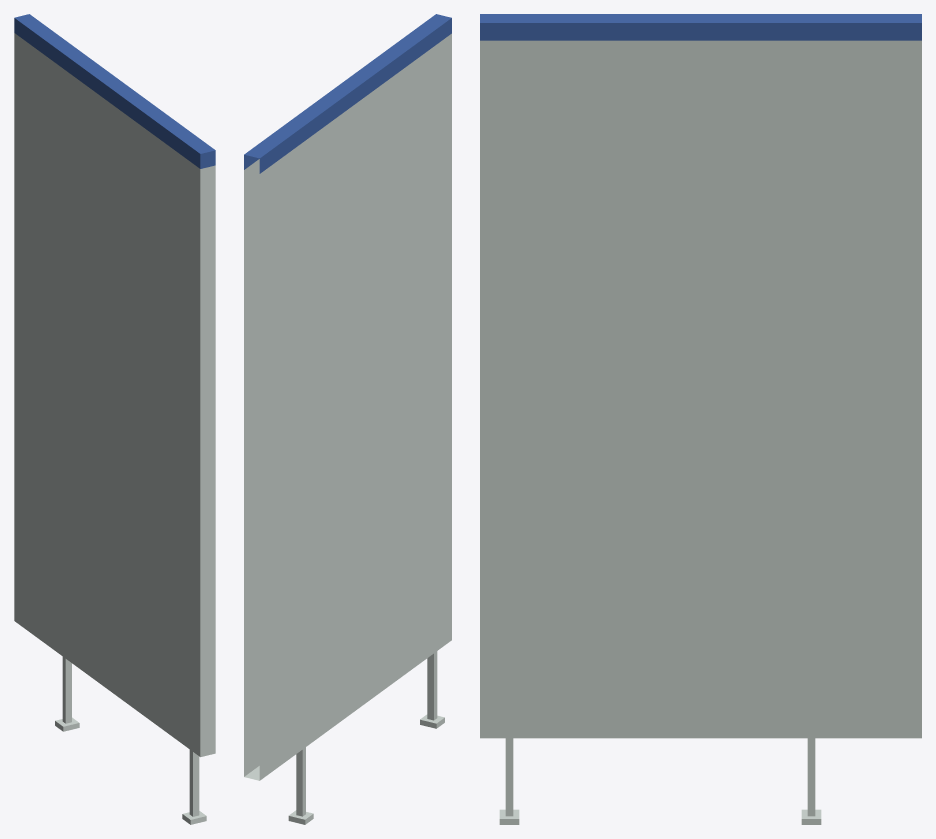
File: SM_Wall_Toilet_01.fbx
The picture shows the model from 3 angles, left to right: view 1: azimuth 30°, elevation 25°; view 2: azimuth 150°, elevation 25°; view 3: azimuth 270°, elevation 25°; orthographic projection. The views are drawn at different scales.
Parts seen in each view (by area): view 1: SM_Wall_Toilet_01; view 2: SM_Wall_Toilet_01; view 3: SM_Wall_Toilet_01.
Boxes of the visible parts, x1=… form: SM_Wall_Toilet_01: x1=14, y1=14, x2=215, y2=824; SM_Wall_Toilet_01: x1=244, y1=14, x2=451, y2=824; SM_Wall_Toilet_01: x1=480, y1=14, x2=921, y2=824.
Bounding box in the file's own units: 6.25 × 241 × 120.
